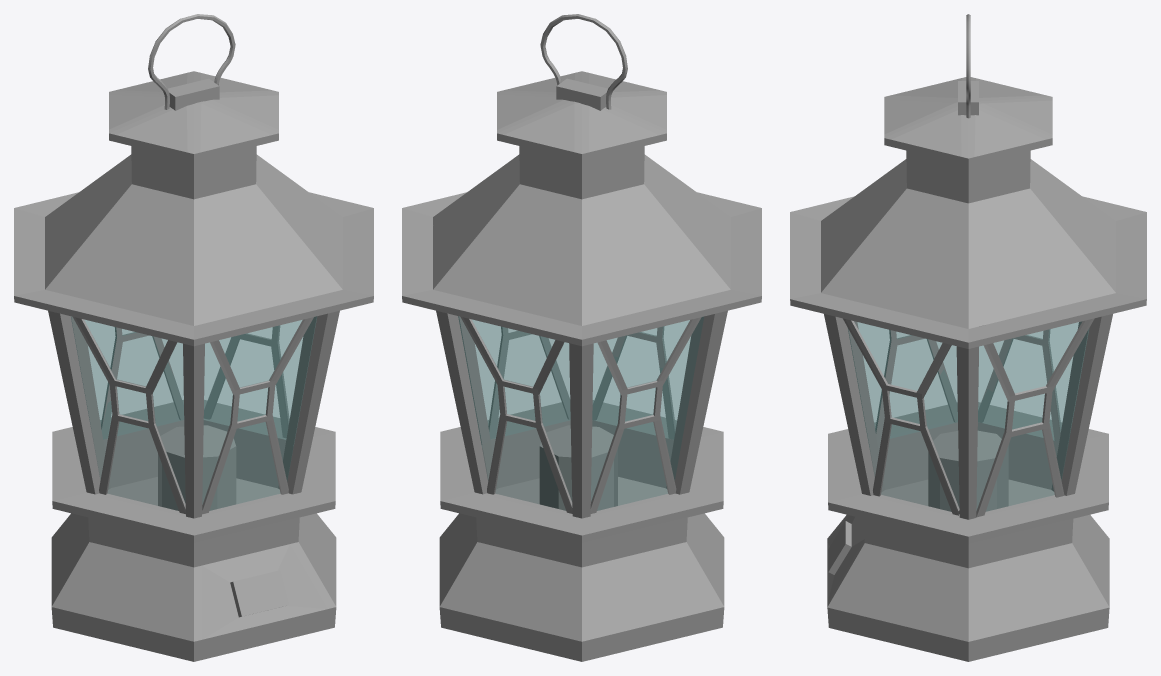
Rendered from Lantern_low.fbx.
3 renders of one model, left to right at view 1: azimuth 30°, elevation 25°; view 2: azimuth 150°, elevation 25°; view 3: azimuth 270°, elevation 25°, orthographic.
Visible parts, largest first — view 1: lantern; view 2: lantern; view 3: lantern.
Part boxes in pixels (x1,y1,x2,y2): lantern: (14,14,373,661); lantern: (402,14,761,661); lantern: (790,14,1146,661).
Bounding box in the file's own units: 0.8781 × 1.35 × 0.7604.
